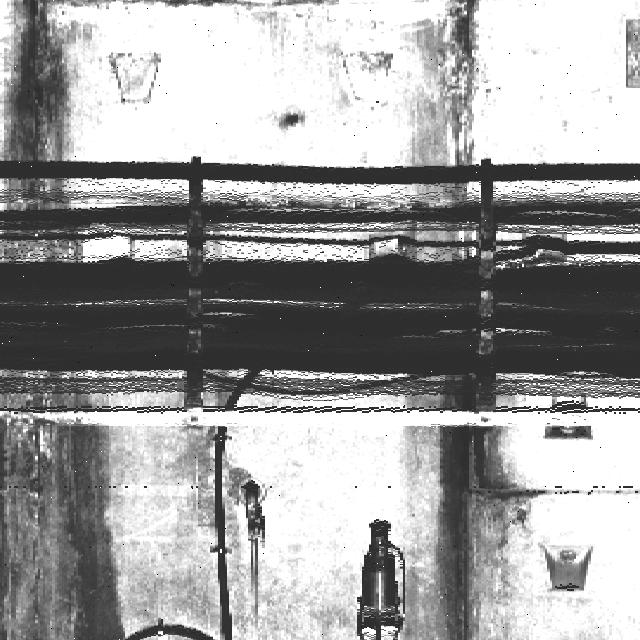leakage: (3, 4, 132, 640), (419, 371, 524, 640)
